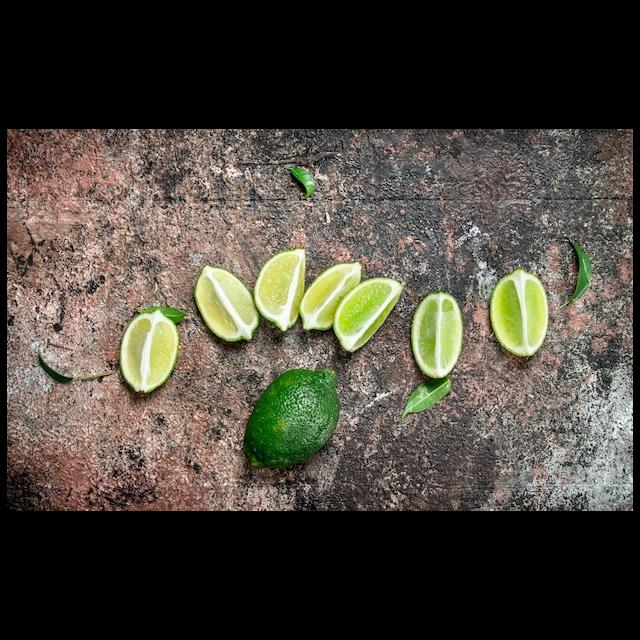lime: (236, 365, 352, 473)
